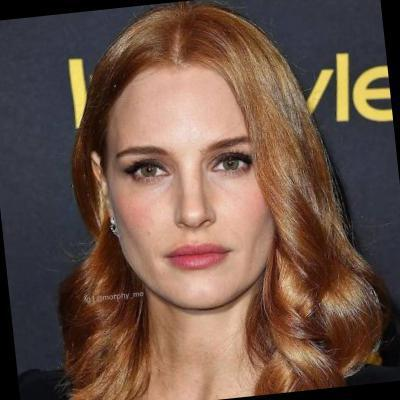Sober: (108, 76, 267, 293)
